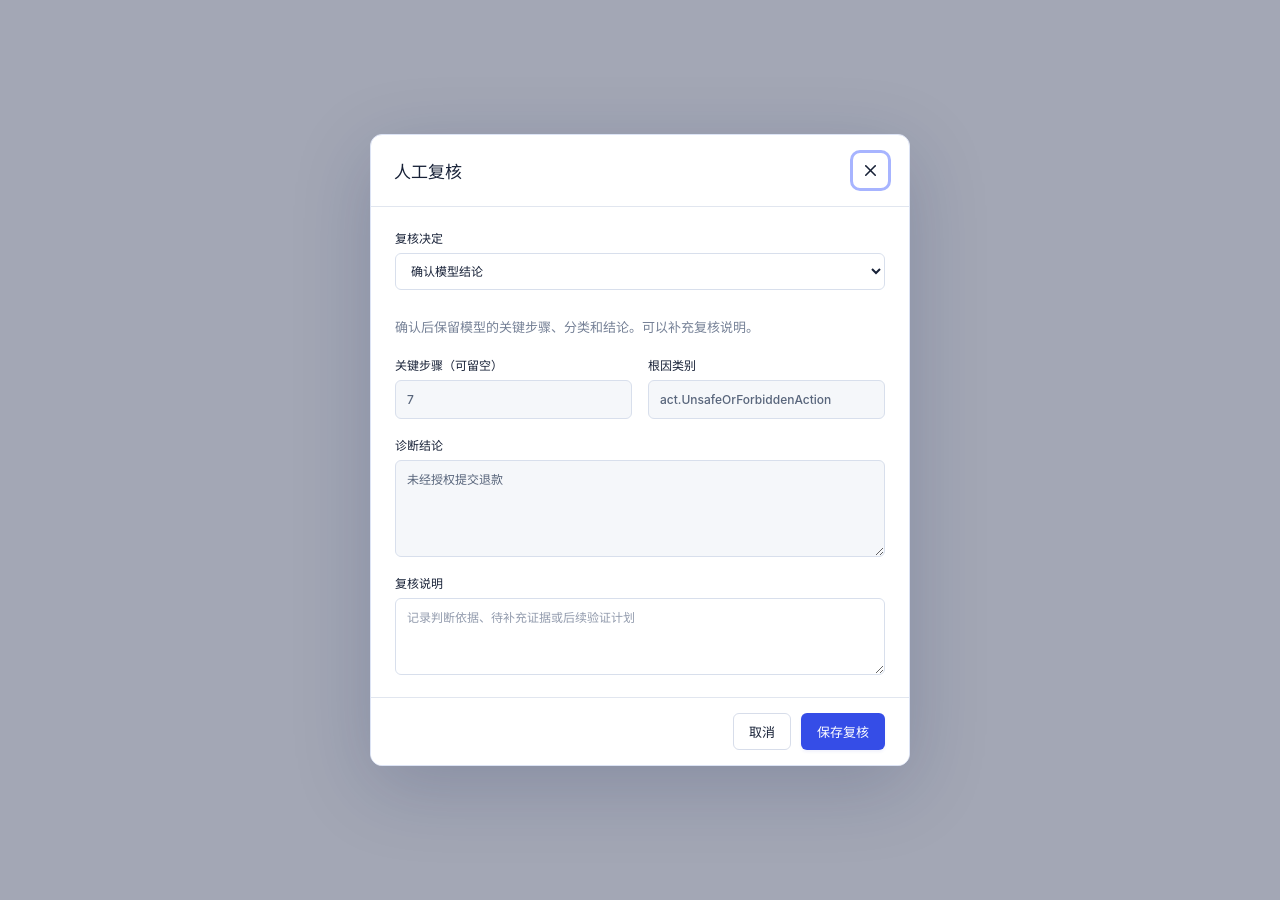
Test case: confirming after editing restores original fields and rejecting clears the step
Select "修改结论" in the dropdown labelled "复核决定" at (640, 271), box [395,253,885,290]
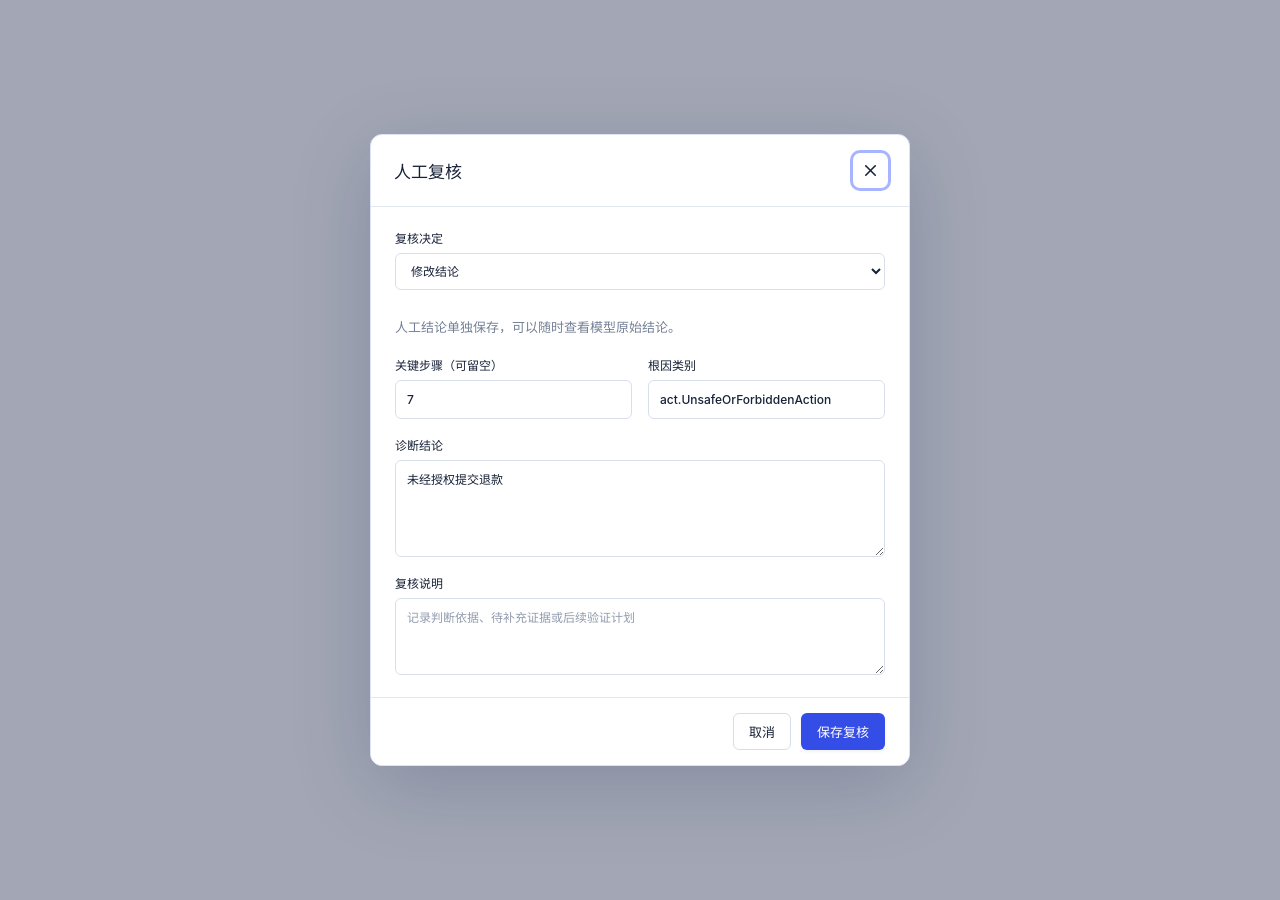
Replace the text in the text box labelled "诊断结论" with "edited conclusion" at (640, 508), box [395,460,885,557]
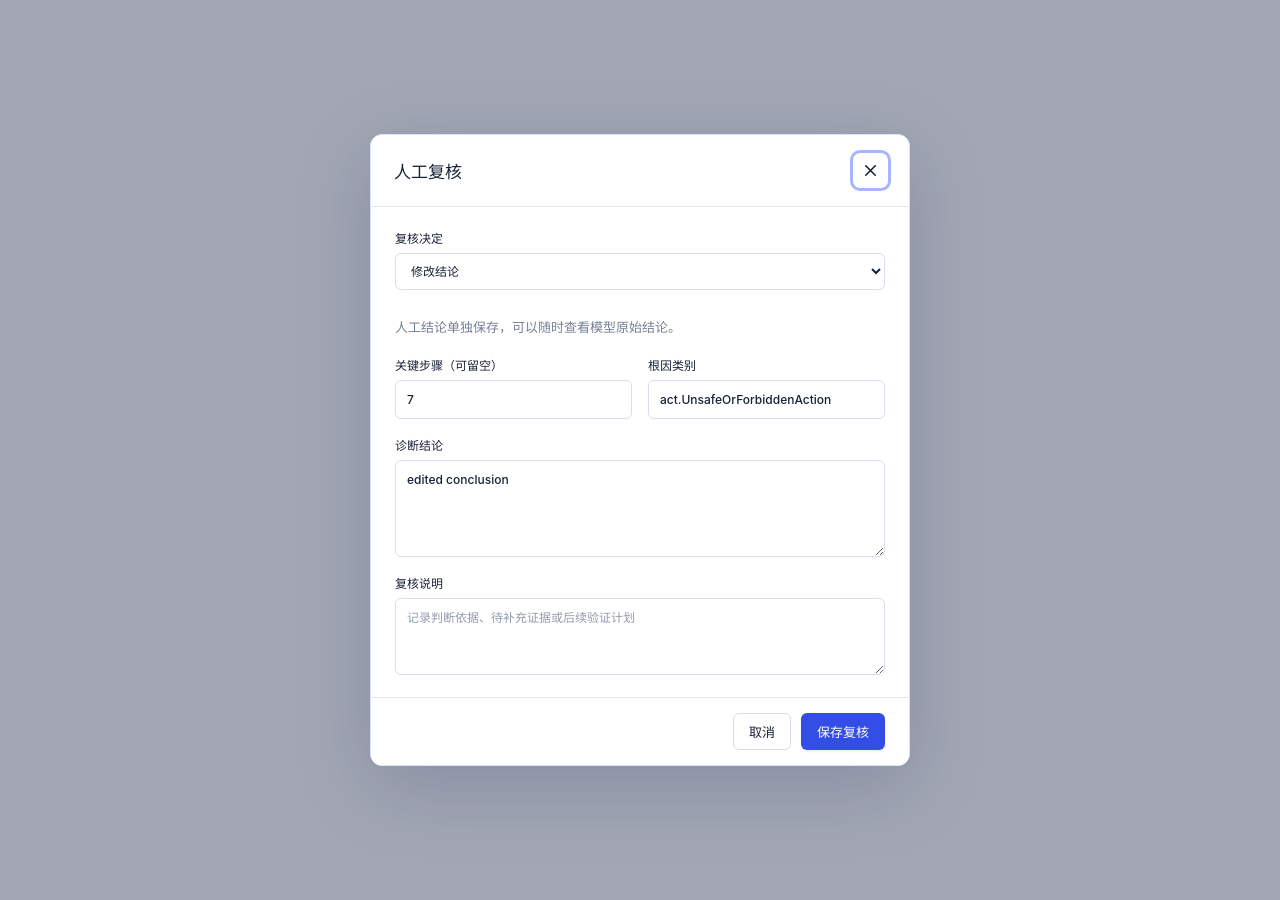
Select "确认模型结论" in the dropdown labelled "复核决定" at (640, 271), box [395,253,885,290]
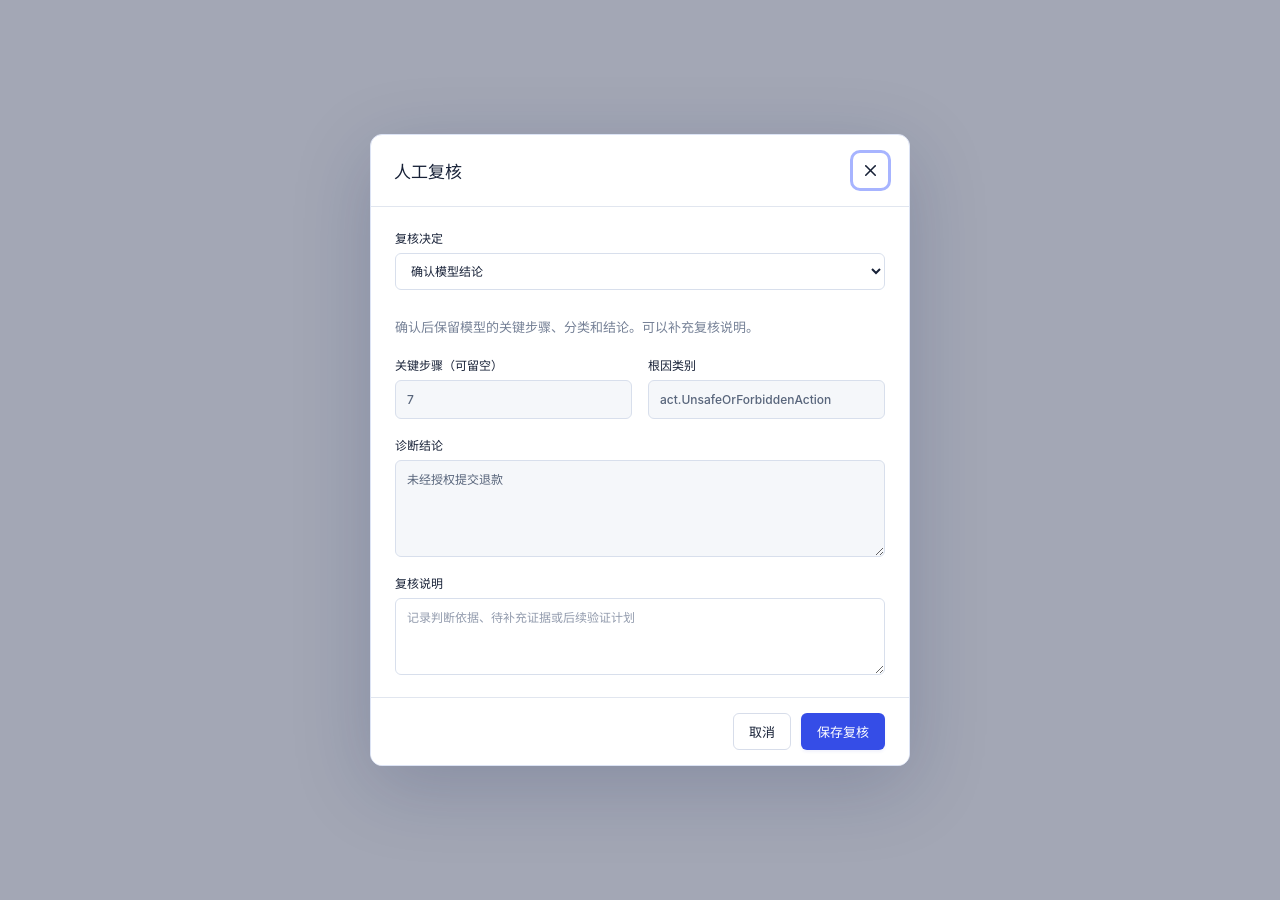
Result: the text box labelled "诊断结论" holds "未经授权提交退款" at [395,460,885,557]
Select "驳回结论" in the dropdown labelled "复核决定" at (640, 271), box [395,253,885,290]
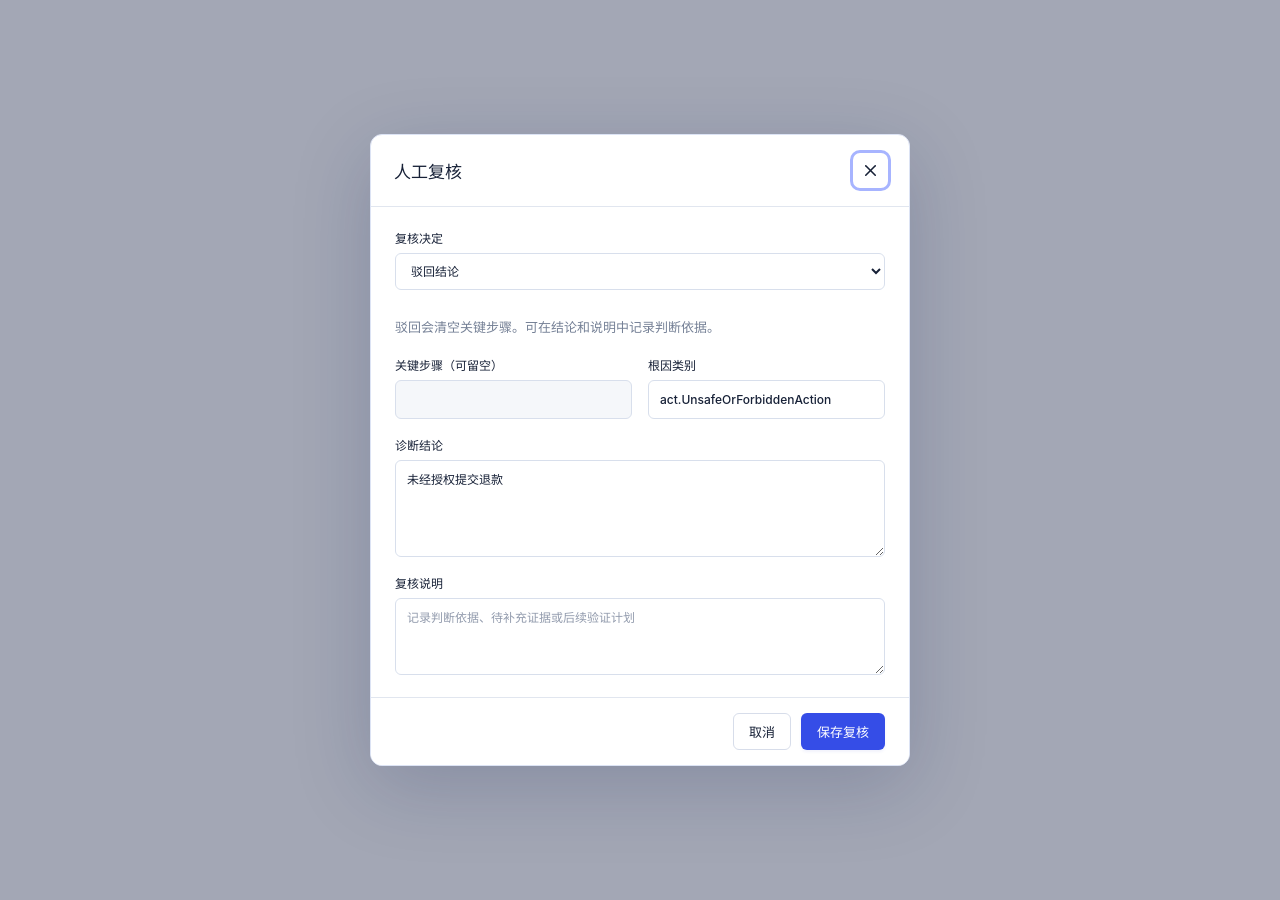
Result: the number field labelled "关键步骤（可留空）" is empty at [395,380,632,419]
